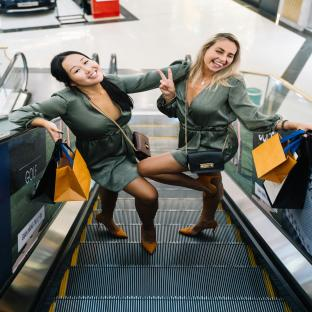Human: (138, 33, 312, 236), (9, 51, 161, 253), (160, 60, 190, 82)
